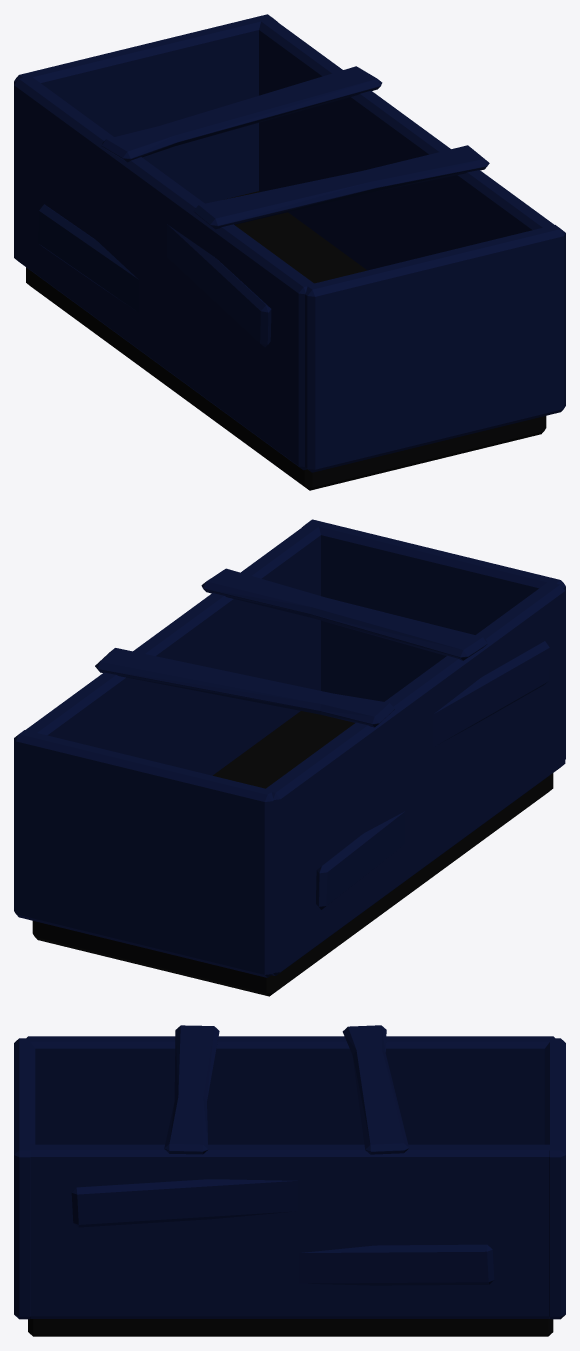
The model's file is chicken_box.fbx.
3 views of the same model, one above another, from view 1: azimuth 30°, elevation 25°; view 2: azimuth 150°, elevation 25°; view 3: azimuth 270°, elevation 25° (orthographic). The views are drawn at different scales.
Visible parts, largest first — view 1: Mesh; view 2: Mesh; view 3: Mesh.
Boxes of the visible parts, x1,y1,x2,y2 form: Mesh: (14, 14, 565, 490); Mesh: (14, 519, 565, 996); Mesh: (14, 1025, 565, 1336).
Size of the model in its own units: 2.08 by 1.51 by 3.77.
